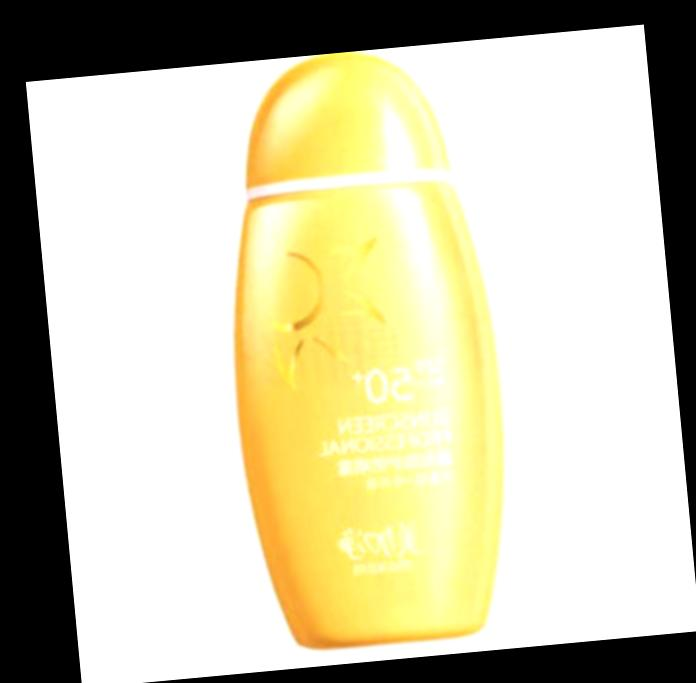cosmetic: (207, 41, 526, 658)
